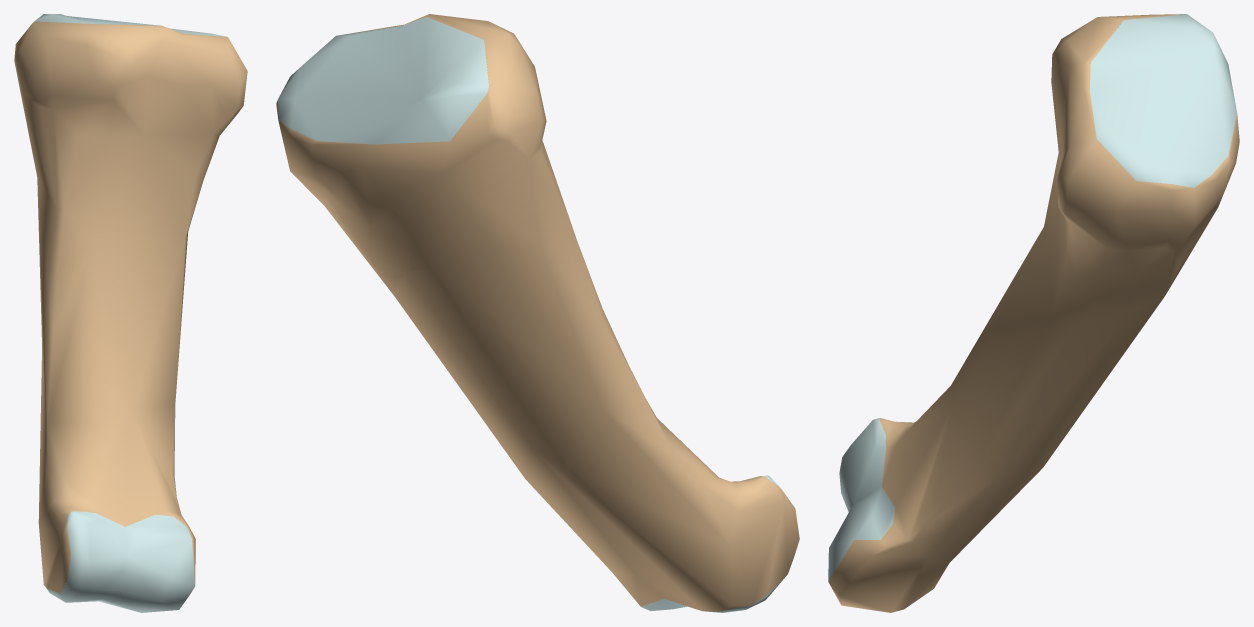
File: Phalanx_proximal_2nd_finger_right.glb
3 views of the same model, side by side, from view 1: azimuth 30°, elevation 25°; view 2: azimuth 150°, elevation 25°; view 3: azimuth 270°, elevation 25° (orthographic). The views are drawn at different scales.
Parts seen in each view (by area): view 1: Proximal_phalanx_of_2d_finger.r_Generated_Mesh_From_X3D.709; view 2: Proximal_phalanx_of_2d_finger.r_Generated_Mesh_From_X3D.709; view 3: Proximal_phalanx_of_2d_finger.r_Generated_Mesh_From_X3D.709.
Boxes of the visible parts, <box> form: Proximal_phalanx_of_2d_finger.r_Generated_Mesh_From_X3D.709: <box>14,14,247,612</box>; Proximal_phalanx_of_2d_finger.r_Generated_Mesh_From_X3D.709: <box>276,14,799,612</box>; Proximal_phalanx_of_2d_finger.r_Generated_Mesh_From_X3D.709: <box>828,14,1239,612</box>.
Size of the model in its own units: 0.0227 by 0.0389 by 0.0237.
